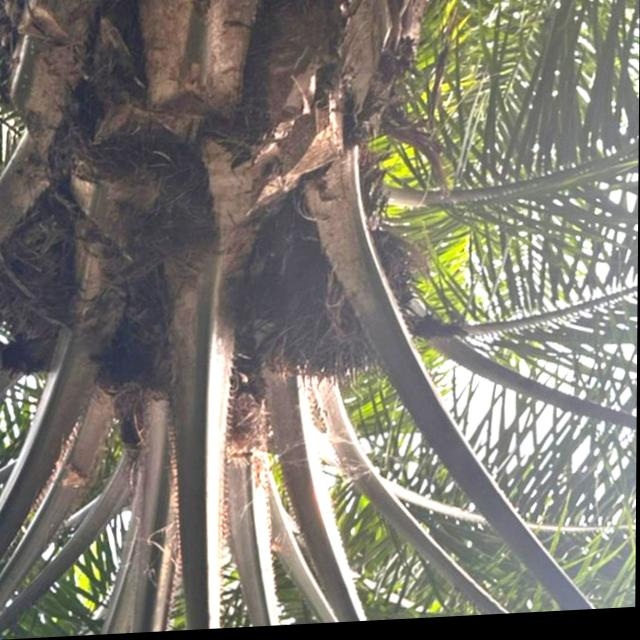almost: (272, 240, 419, 404)
